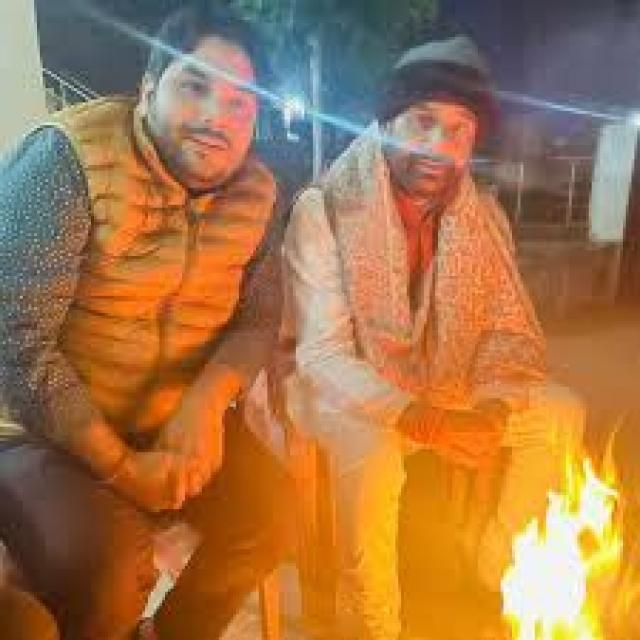fire: (499, 455, 619, 640)
